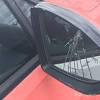Sidemirror-Damage: (28, 0, 99, 91)
